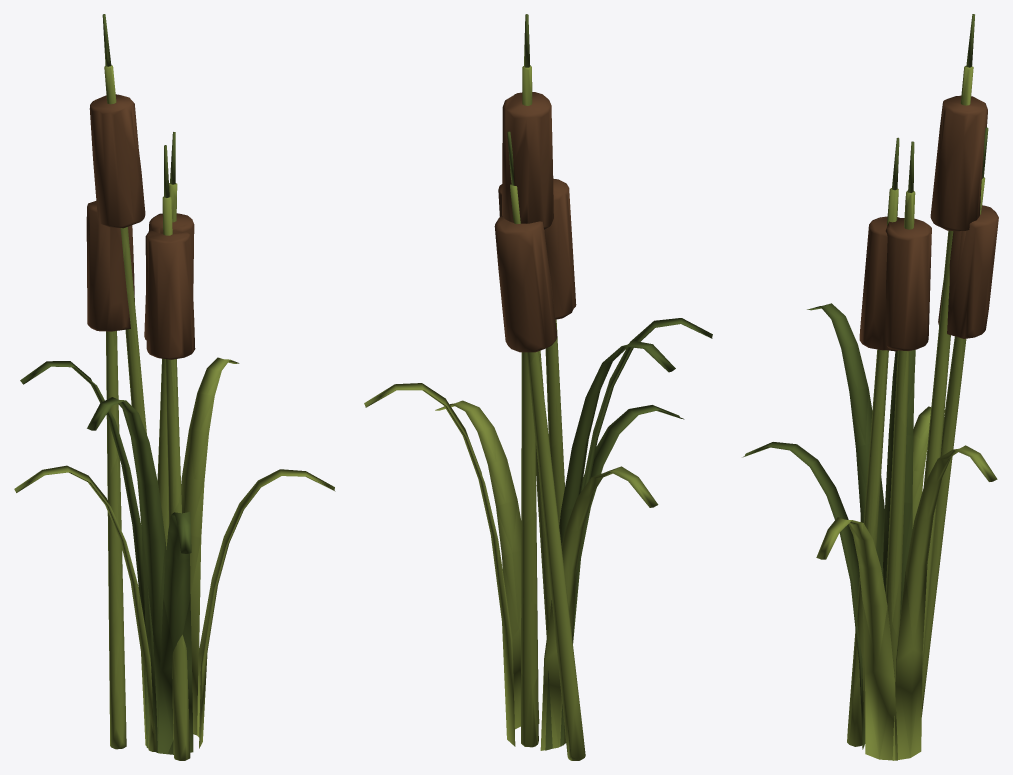
File: mire_cattail_lod1.glb
3 renders of one model, left to right at view 1: azimuth 30°, elevation 25°; view 2: azimuth 150°, elevation 25°; view 3: azimuth 270°, elevation 25°, orthographic. The views are drawn at different scales.
Parts seen in each view (by area): view 1: mire_cattail.001; view 2: mire_cattail.001; view 3: mire_cattail.001.
Boxes of the visible parts, bbox=[...] form: mire_cattail.001: bbox=[14, 14, 335, 760]; mire_cattail.001: bbox=[364, 14, 712, 760]; mire_cattail.001: bbox=[742, 14, 998, 760].
Size of the model in its own units: 7.82 by 19.74 by 6.41.
